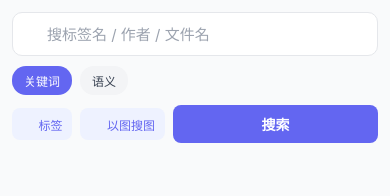
Scenario: SearchScreen（M3） › 语义模式没输入文本时给提示，不发请求
Expected: the text "语义" is shown, [92,72,116,89]
Click the element with test id "mode-semantic" at (104, 80), box [80,66,128,95]
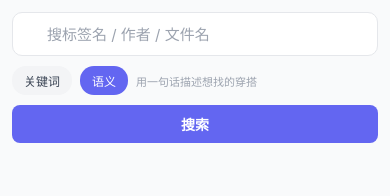
Click the text "搜索" at (195, 124), box [181,114,209,134]
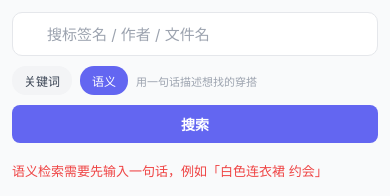
Expected: the text "语义检索需要先输入一句话，例如「白色连衣裙 约会」" is shown, [12,163,328,179]
